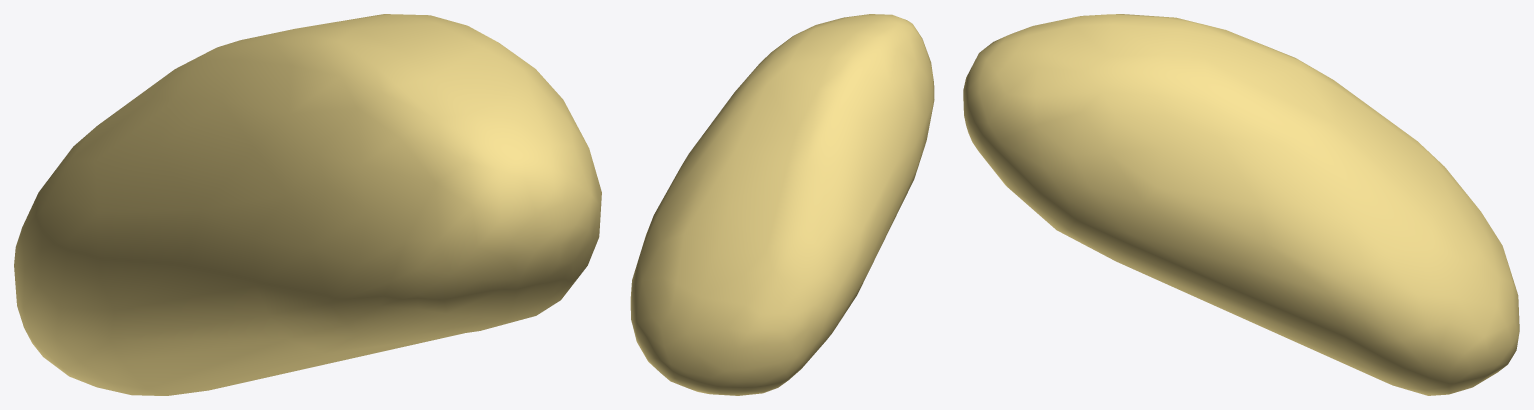
File: fma62033_fj1795.glb
3 renders of one model, left to right at view 1: azimuth 30°, elevation 25°; view 2: azimuth 150°, elevation 25°; view 3: azimuth 270°, elevation 25°, orthographic. The views are drawn at different scales.
Visible parts, largest first — view 1: FMA62033_FJ1795; view 2: FMA62033_FJ1795; view 3: FMA62033_FJ1795.
Part boxes in pixels (x1,y1,x2,y2): FMA62033_FJ1795: [14, 14, 601, 395]; FMA62033_FJ1795: [630, 14, 934, 395]; FMA62033_FJ1795: [963, 14, 1519, 395].
Size of the model in its own units: 0.00627 by 0.00771 by 0.0114.
